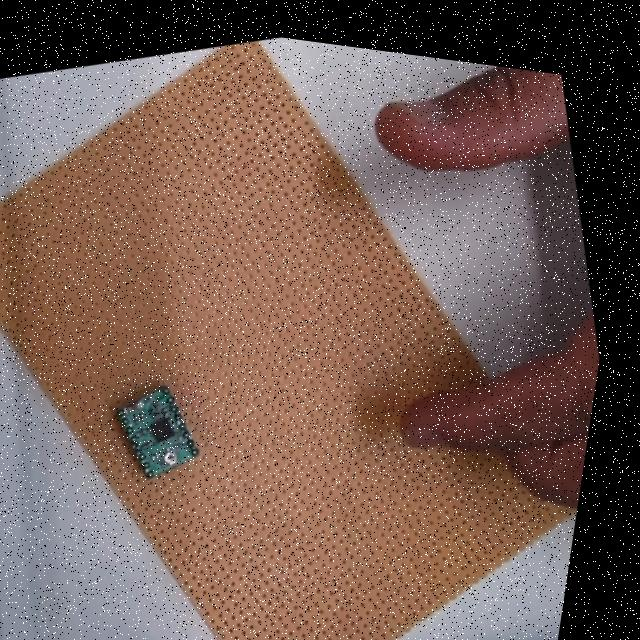Chip: (90, 365, 221, 499)
